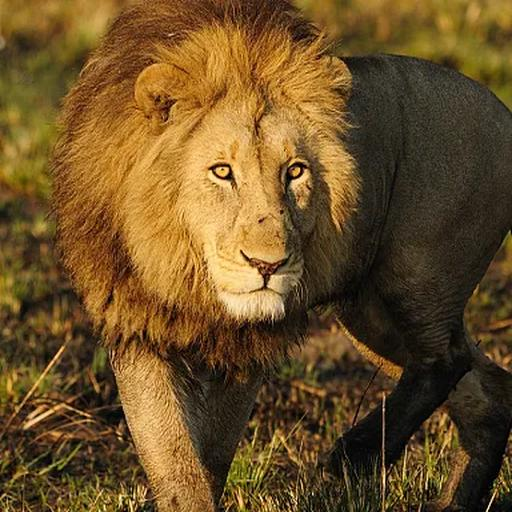Lion: (46, 0, 512, 512)
